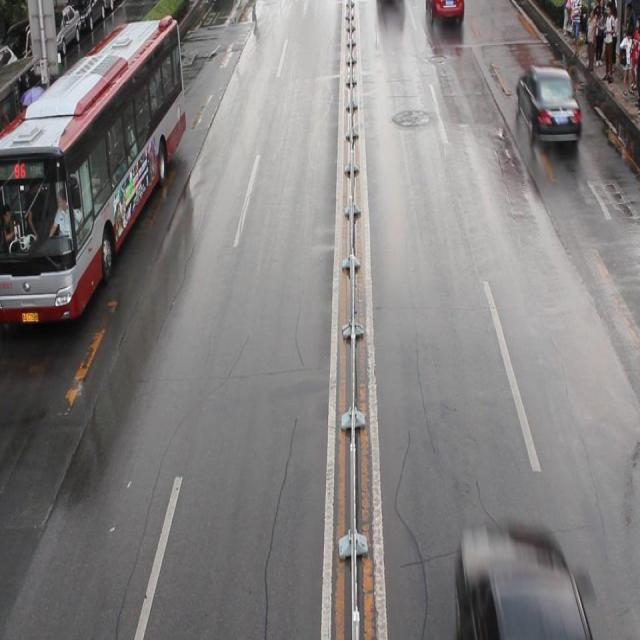car: (517, 67, 580, 144), (426, 1, 464, 20)
van: (1, 17, 186, 321)
